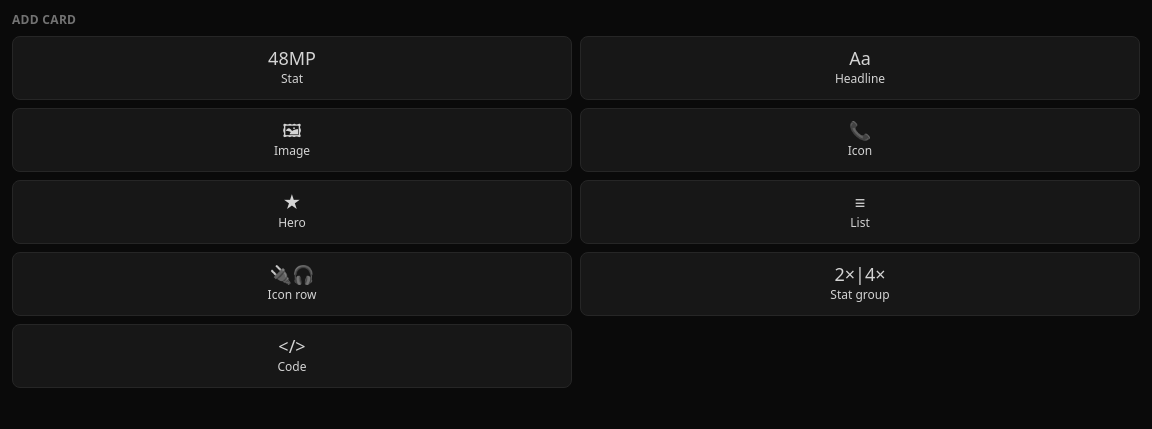
Scenario: Palette › shows a message when the grid is full
The image size is (1152, 429).
Click the button "📞 Icon".
click(860, 140)  # box [580,108,1140,172]
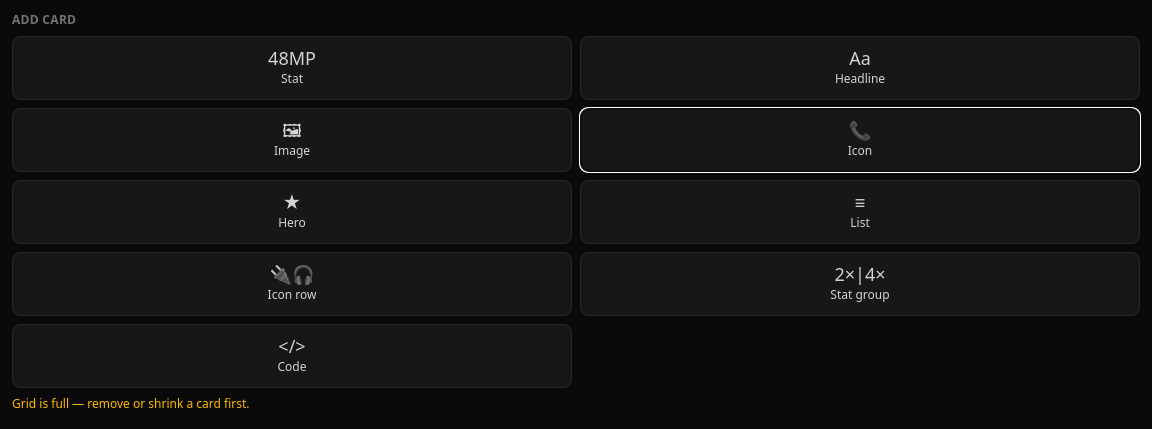
expect the text "Grid is full — remove or shrink a card first." is shown: met, box [12,395,250,412]
